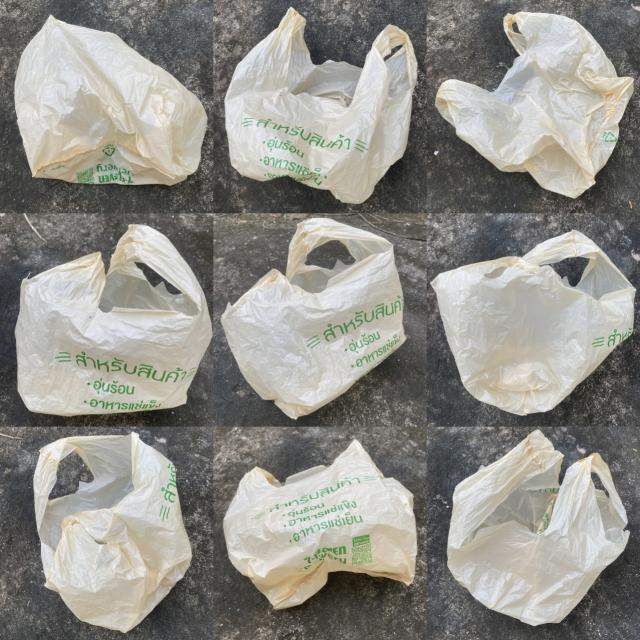Single-layer Plastic: (225, 8, 418, 203), (15, 225, 212, 416), (431, 230, 635, 414), (435, 12, 634, 198), (221, 218, 405, 419), (448, 430, 630, 625), (224, 440, 416, 609), (15, 16, 206, 184), (34, 432, 191, 632)
